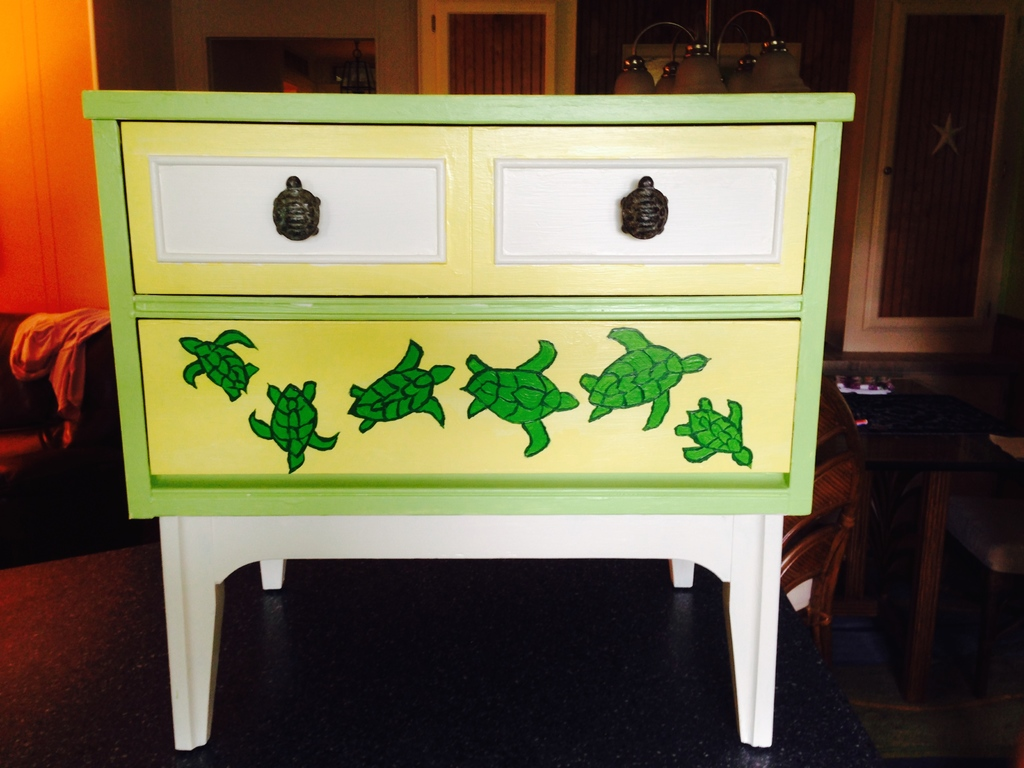cabinet door: (140, 324, 786, 481), (120, 127, 470, 281), (470, 141, 799, 298), (882, 26, 994, 322)
handle: (618, 175, 671, 250), (264, 181, 319, 244)
